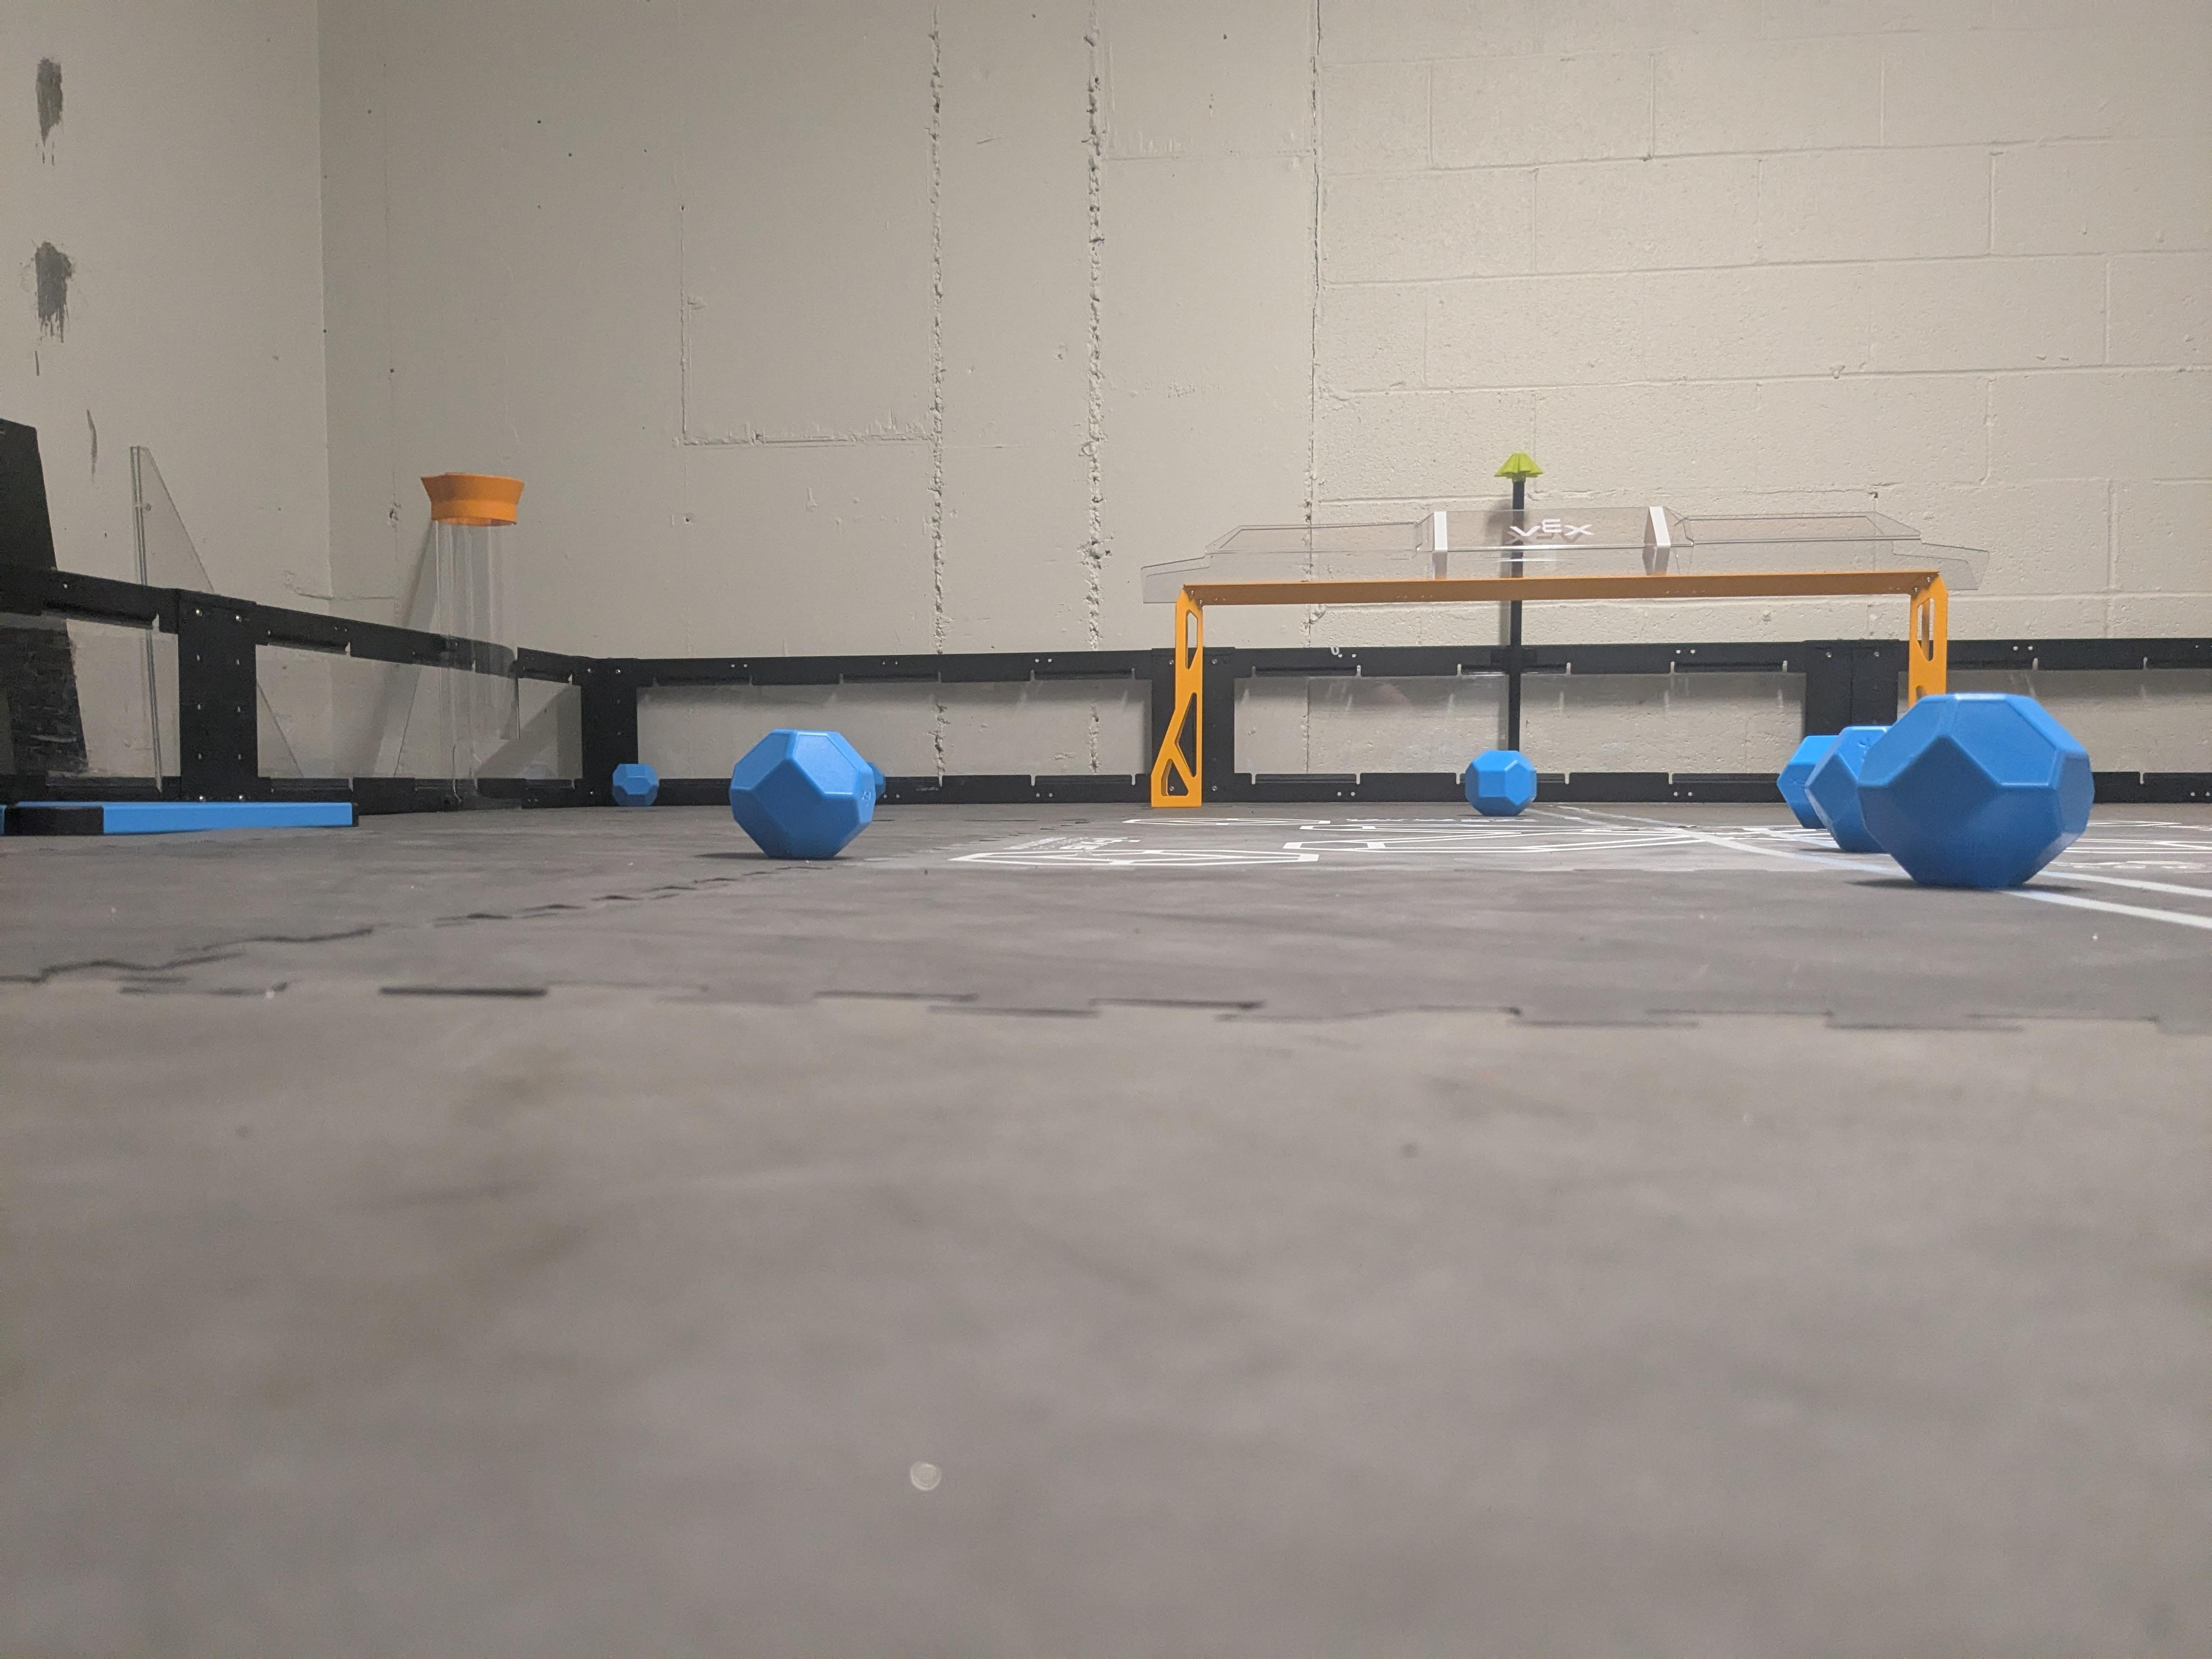Vex-Pieces-BLUE: (1778, 694, 2090, 885), (728, 727, 881, 857), (1465, 751, 1529, 814), (611, 763, 658, 807)
